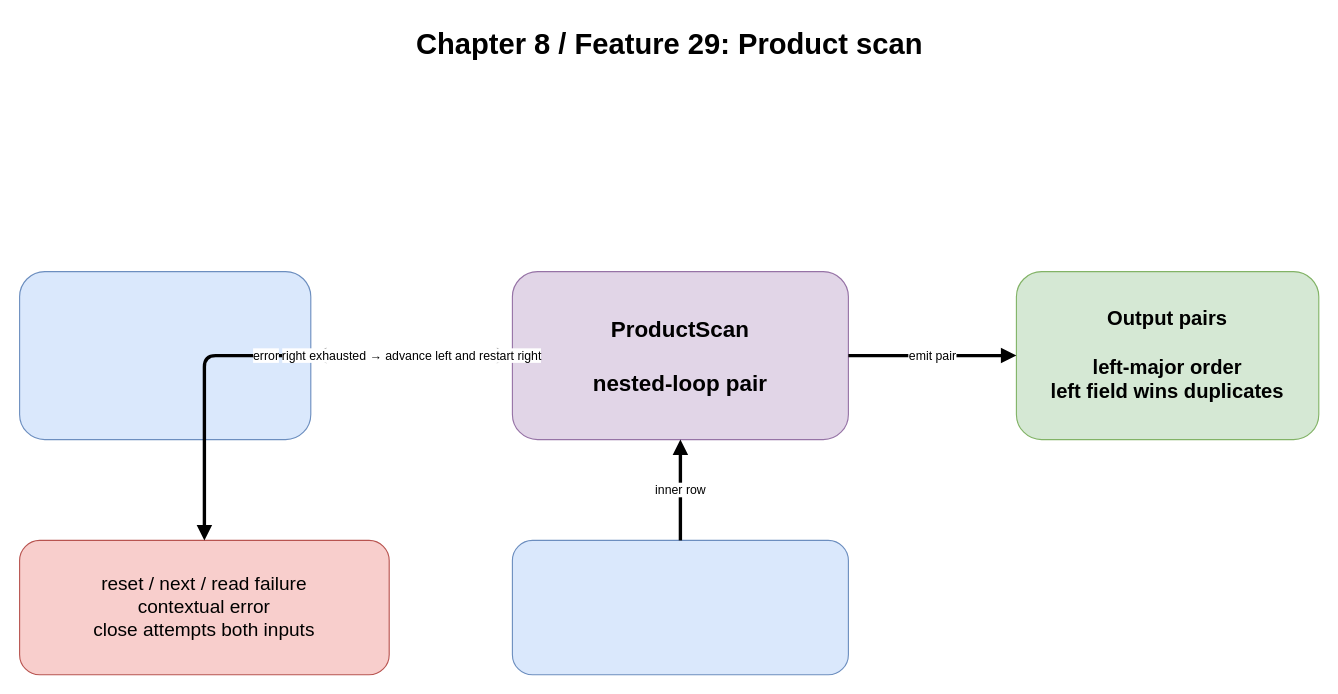
Image size: 1338x694. Some labels were removed from this diagram. Each missing label, with the centre of its shape:
"Left Scan advance outer row" goes at point 164,355.
"Right Scan restart for each left row" goes at point 679,607.
